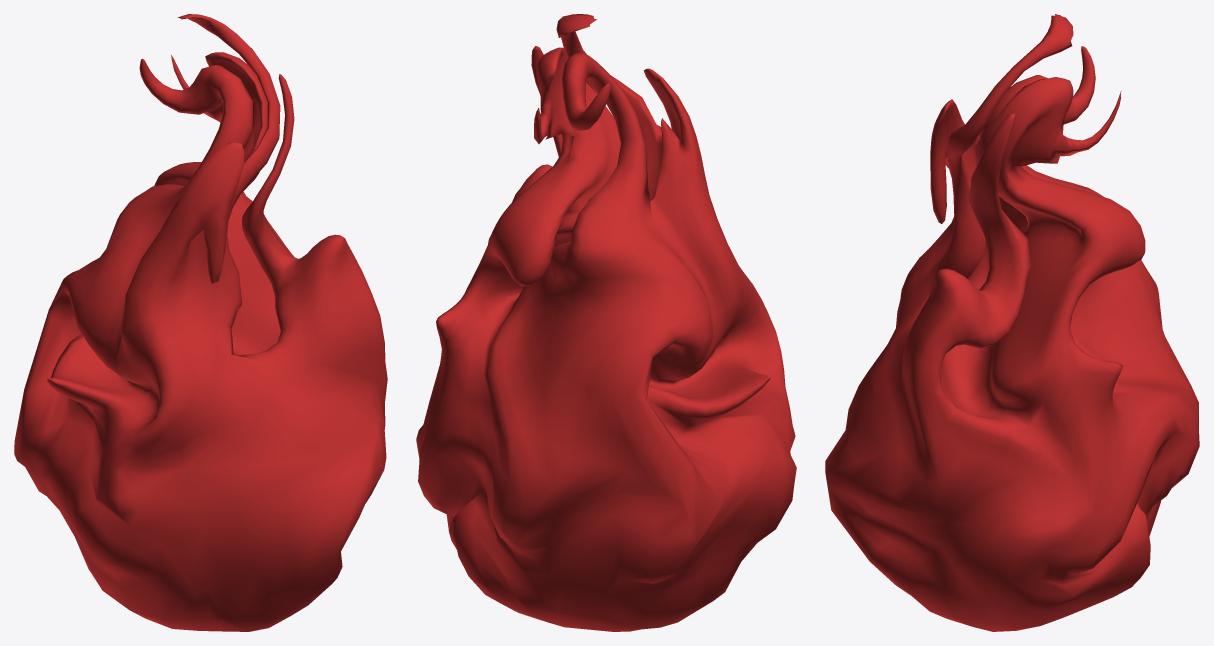
Rendered from Fire_v1_001.fbx.
3 views of the same model, side by side, from view 1: azimuth 30°, elevation 25°; view 2: azimuth 150°, elevation 25°; view 3: azimuth 270°, elevation 25° (orthographic). The views are drawn at different scales.
Visible parts, largest first — view 1: Fire_v1_001; view 2: Fire_v1_001; view 3: Fire_v1_001.
Part boxes in pixels (bbox=[...]): Fire_v1_001: bbox=[14, 14, 387, 631]; Fire_v1_001: bbox=[416, 14, 796, 631]; Fire_v1_001: bbox=[825, 14, 1199, 631].
Bounding box in the file's own units: 43.27 × 75.26 × 43.09.
